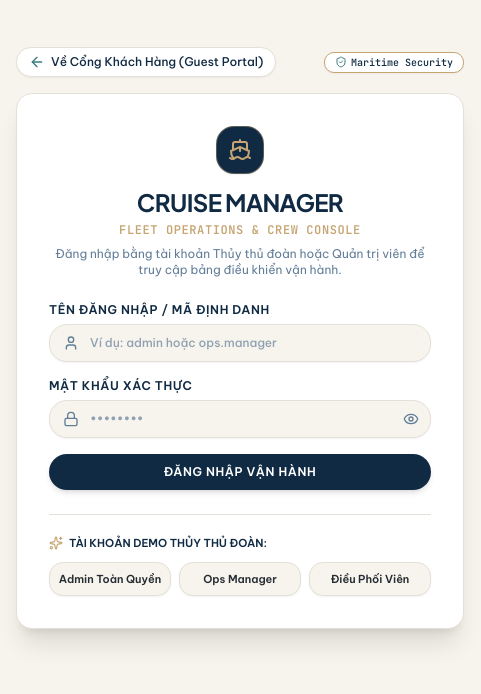
Scenario: LoginPage Component Tests › shows error message when submitting invalid credentials
Type "invalid-user" into the field labelled "Tên đăng nhập / Mã định danh" at (240, 343), box [49,324,431,362]
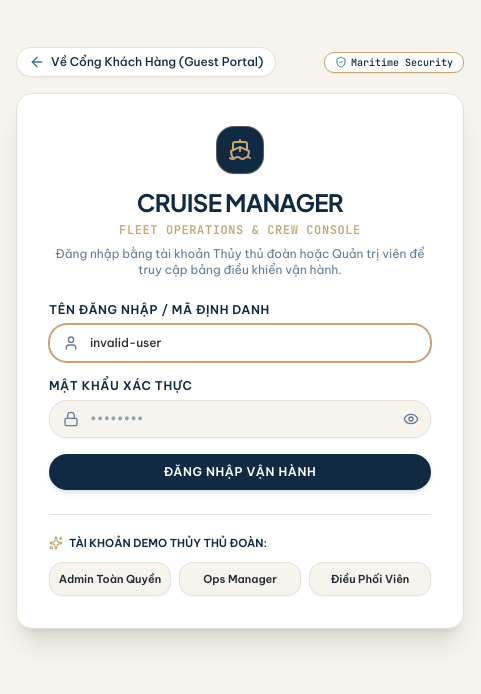
Type "wrongpass" into the password field labelled "Mật khẩu xác thực" at (240, 419), box [49,400,431,438]
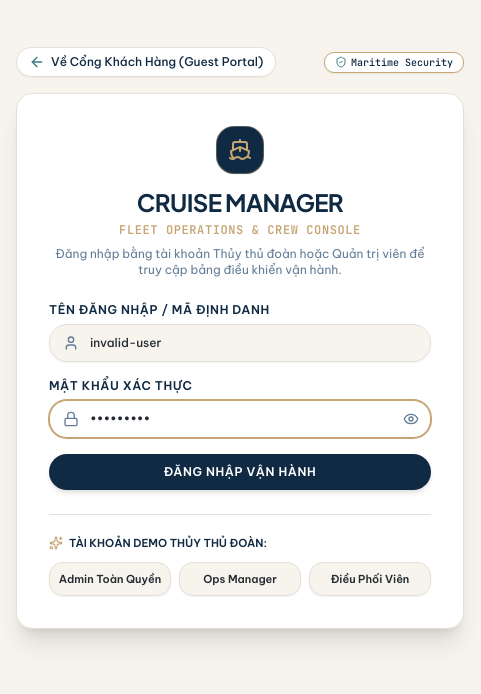
Click the button "Đăng nhập Vận Hành" at (240, 472), box [49,454,431,490]
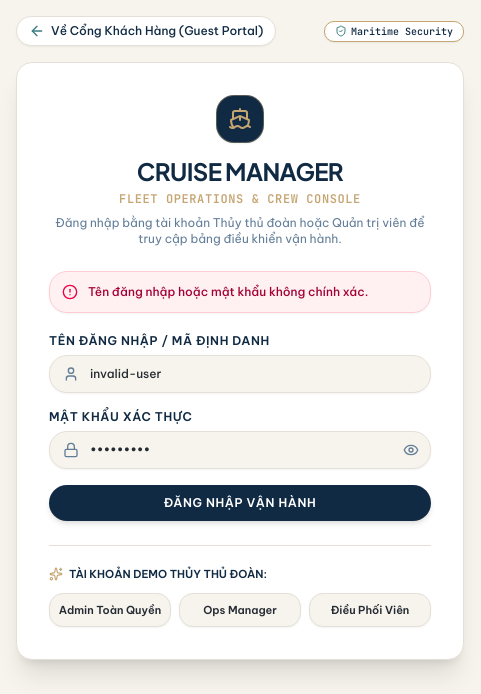
Result: the message shows "Tên đăng nhập hoặc mật khẩu không chính xác" at [88,284,368,299]
